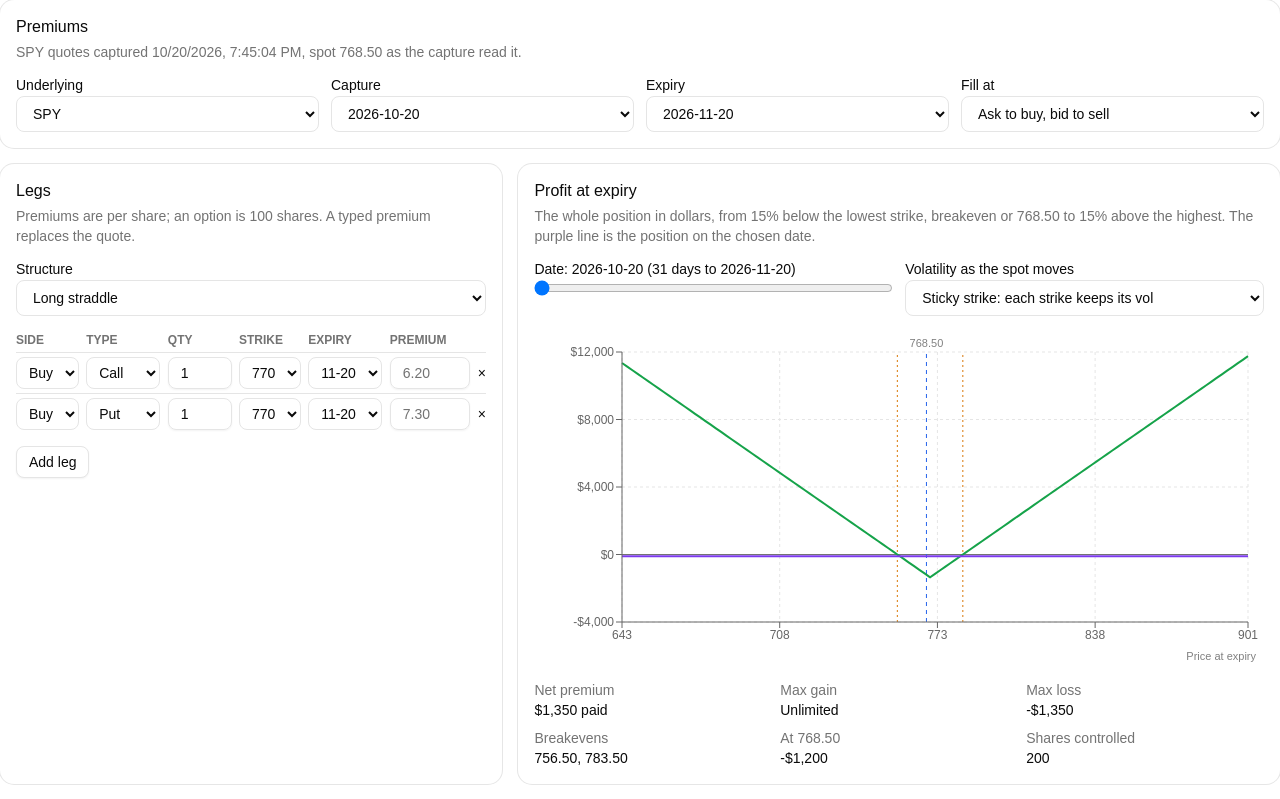
it: PayoffPage before expiry (decision 55) › moves the date with the slider, once it rests
The image size is (1280, 799).
Set the slider labelled "Date: 2026-10-20 (31 days to 2026-11-20)" to "10" at (653, 288), box [534,280,893,296]
(page scrolled)
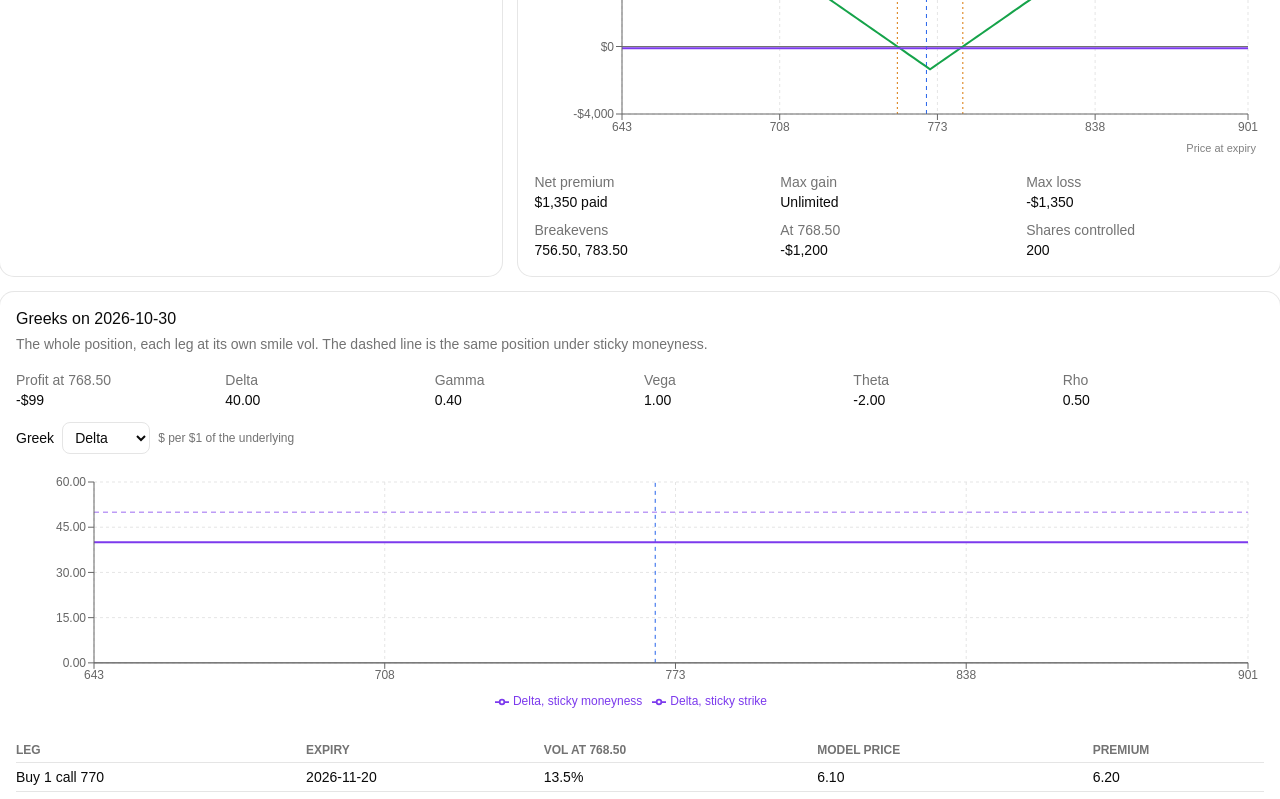
Now the text "40.00" is shown, box [225,392,260,408]
